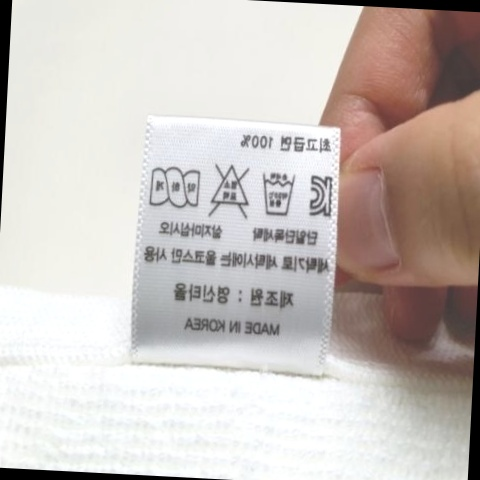hand_wash: (254, 170, 298, 221)
non_chlorine_bleach: (205, 158, 253, 221)
wring: (148, 165, 204, 211)
